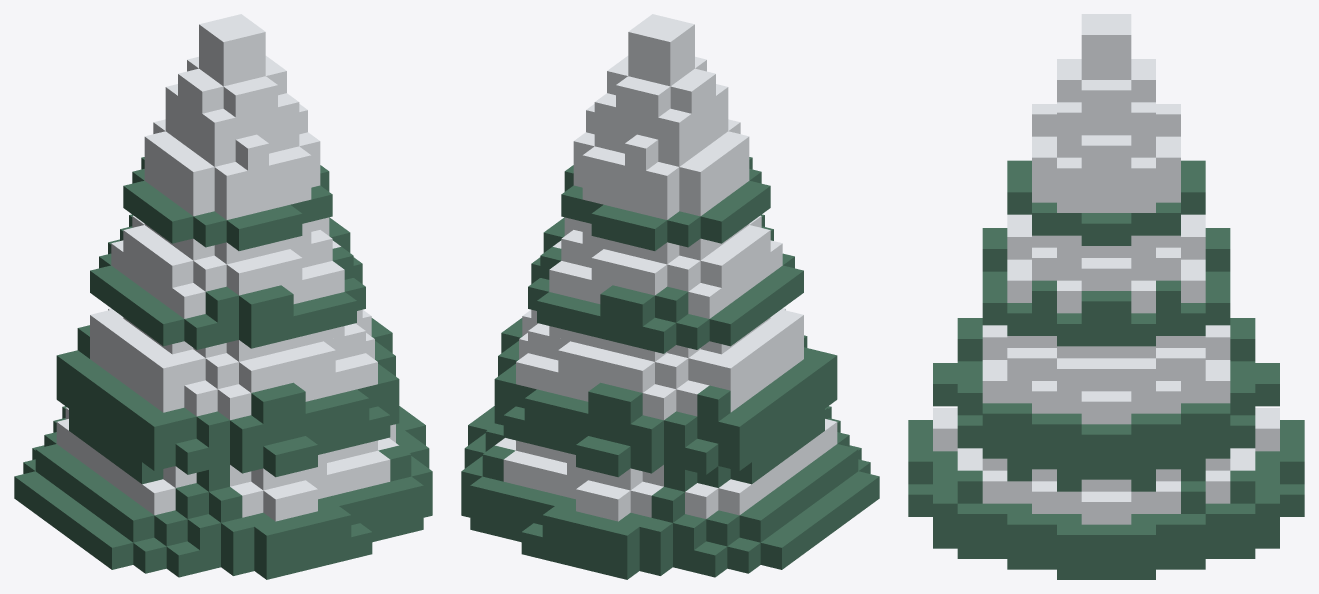
File: alpine_conifer.glb
3 views of the same model, side by side, from view 1: azimuth 30°, elevation 25°; view 2: azimuth 150°, elevation 25°; view 3: azimuth 270°, elevation 25° (orthographic).
Size of the model in its own units: 0.6667 by 0.9583 by 0.6667.
